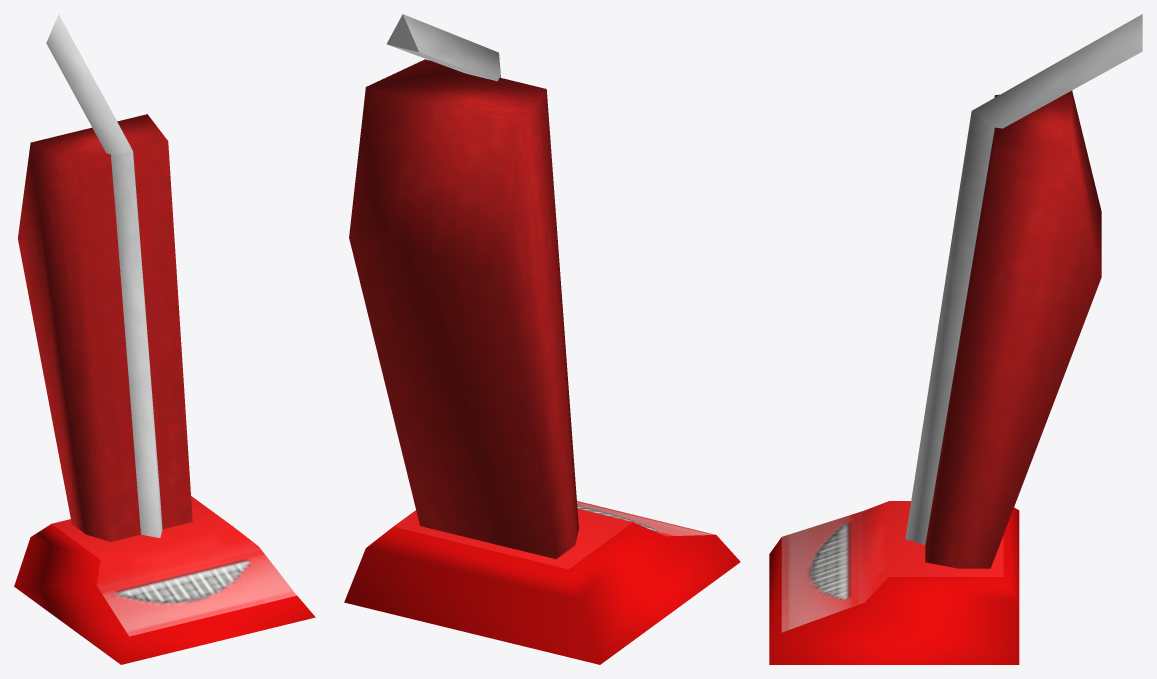
The model's file is Vacuum.fbx.
3 views of the same model, side by side, from view 1: azimuth 30°, elevation 25°; view 2: azimuth 150°, elevation 25°; view 3: azimuth 270°, elevation 25° (orthographic). The views are drawn at different scales.
Visible parts, largest first — view 1: Maya_File_Assets:TexturedAssetsCurrent:VacumCleaner; view 2: Maya_File_Assets:TexturedAssetsCurrent:VacumCleaner; view 3: Maya_File_Assets:TexturedAssetsCurrent:VacumCleaner.
Part boxes in pixels (x1,y1,x2,y2): Maya_File_Assets:TexturedAssetsCurrent:VacumCleaner: (14, 14, 315, 664); Maya_File_Assets:TexturedAssetsCurrent:VacumCleaner: (344, 14, 740, 664); Maya_File_Assets:TexturedAssetsCurrent:VacumCleaner: (769, 14, 1142, 664).
Bounding box in the file's own units: 0.4894 × 1.22 × 0.6957.
